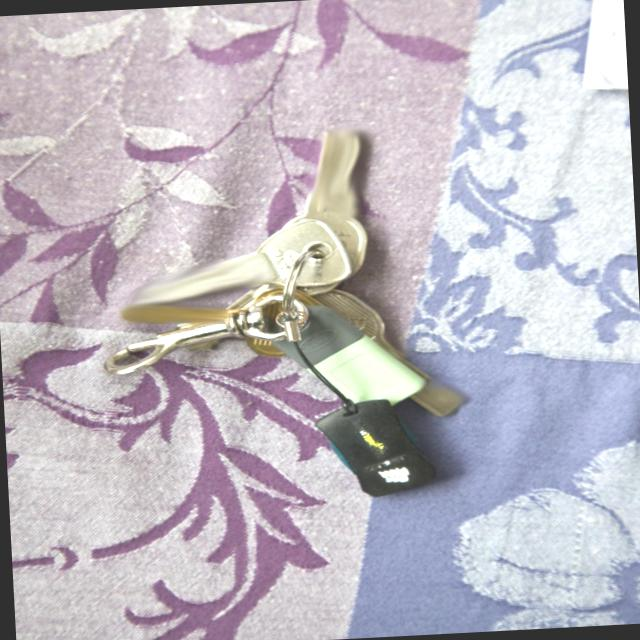Frontdoor keys: (85, 215, 387, 309)
